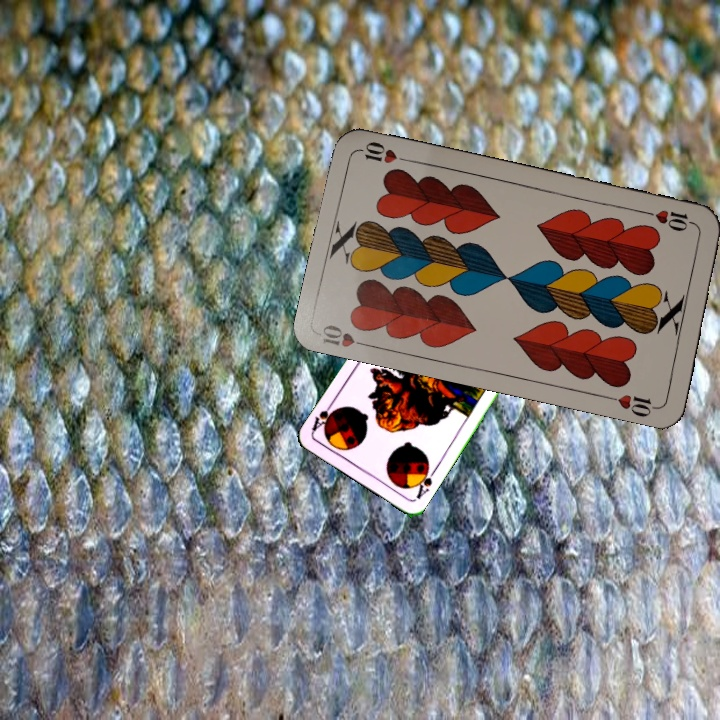H10: (316, 320, 375, 350), (641, 205, 699, 234)
SA: (410, 462, 438, 502)
